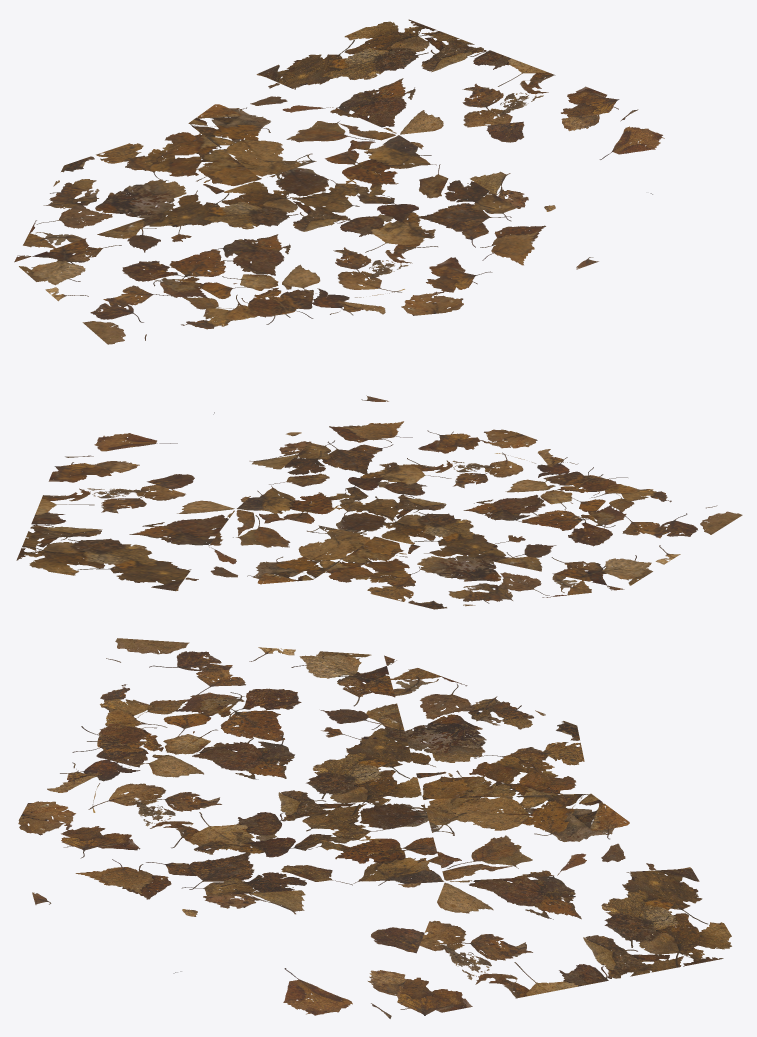
Rendered from SM_Leaves01.fbx.
3 views of the same model, one above another, from view 1: azimuth 30°, elevation 25°; view 2: azimuth 150°, elevation 25°; view 3: azimuth 270°, elevation 25° (orthographic). The views are drawn at different scales.
Parts seen in each view (by area): view 1: SM_Leaves01; view 2: SM_Leaves01; view 3: SM_Leaves01.
Boxes of the visible parts, box(x1,y1,x2,y2) form: SM_Leaves01: box(14, 19, 664, 344); SM_Leaves01: box(16, 395, 742, 609); SM_Leaves01: box(18, 638, 731, 1018).
Bounding box in the file's own units: 168 × 3.93 × 138.
